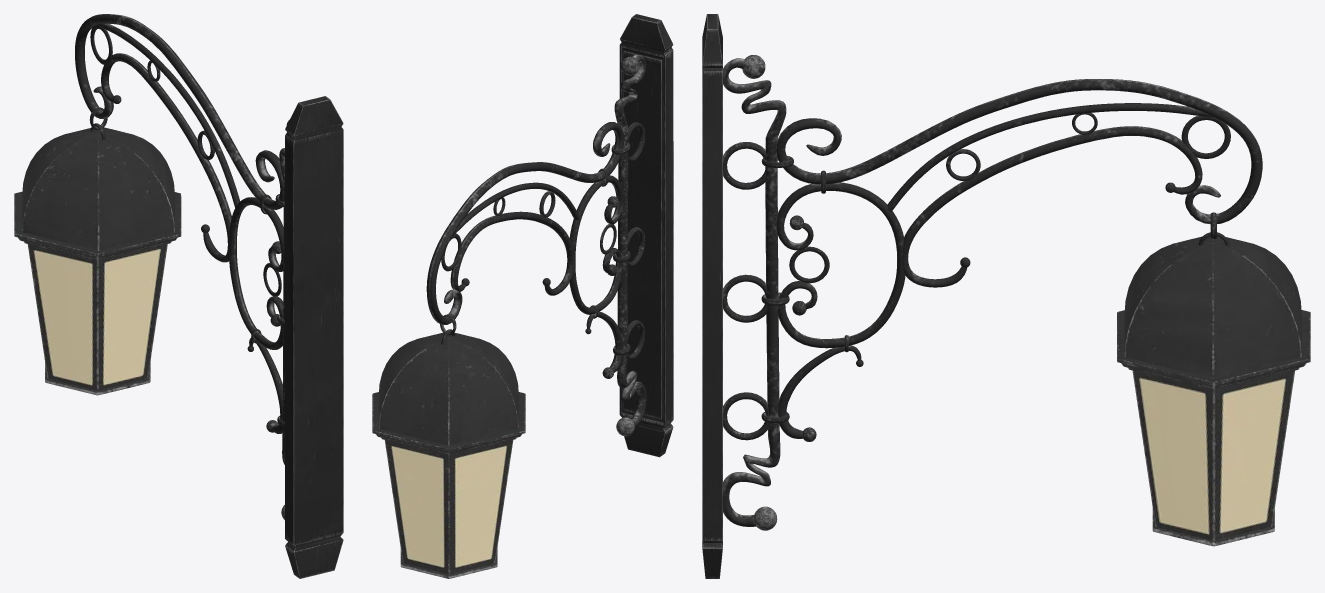
File: victorian_street_lamp_d4006d.glb
3 views of the same model, side by side, from view 1: azimuth 30°, elevation 25°; view 2: azimuth 150°, elevation 25°; view 3: azimuth 270°, elevation 25° (orthographic). The views are drawn at different scales.
Visible parts, largest first — view 1: Lamp, WallPiece, MetalTubes; view 2: Lamp, WallPiece, MetalTubes; view 3: Lamp, MetalTubes, WallPiece.
Boxes of the visible parts, left/top/right/bottom form: Lamp: left=14, top=127, right=181, bottom=395; WallPiece: left=285, top=96, right=343, bottom=578; MetalTubes: left=75, top=14, right=289, bottom=519; Lamp: left=372, top=332, right=525, bottom=578; WallPiece: left=619, top=14, right=673, bottom=457; MetalTubes: left=426, top=54, right=646, bottom=436; Lamp: left=1117, top=236, right=1310, bottom=546; MetalTubes: left=723, top=55, right=1262, bottom=530; WallPiece: left=702, top=14, right=722, bottom=578.
Size of the model in its own units: 0.7339 by 1.99 by 2.
3 materials, 3 textured.
